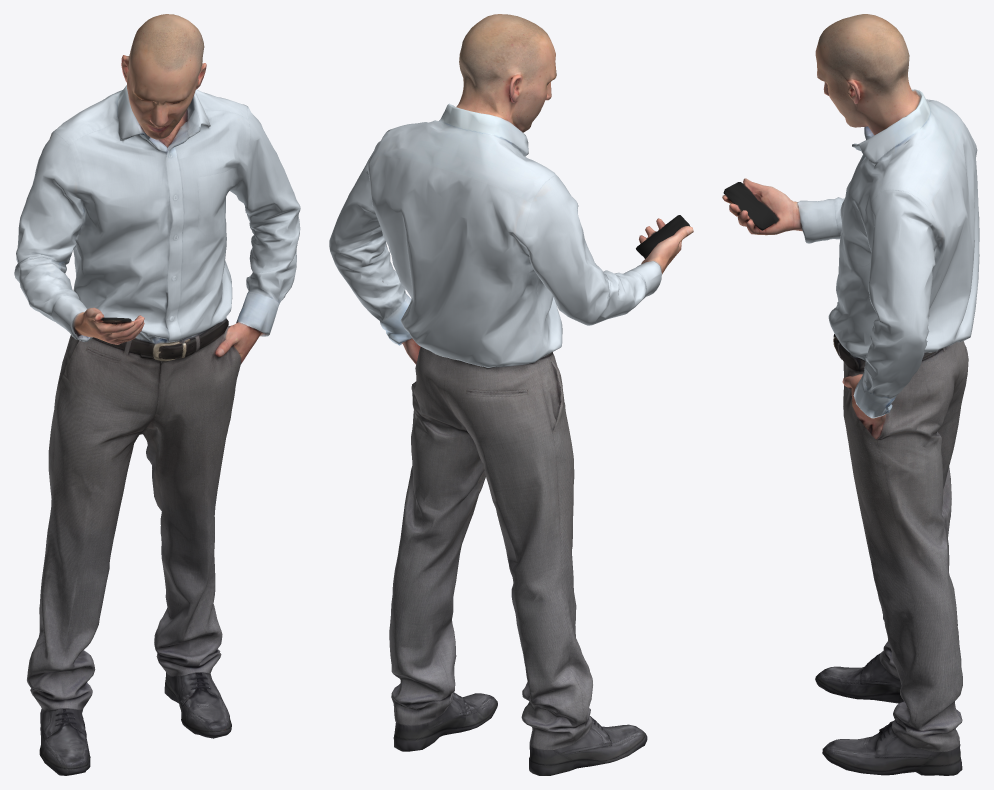
The model's file is office-guy.obj.
The picture shows the model from 3 angles, left to right: view 1: azimuth 30°, elevation 25°; view 2: azimuth 150°, elevation 25°; view 3: azimuth 270°, elevation 25°; orthographic projection.
Visible parts, largest first — view 1: BMan0006_HD2_O01P05_S; view 2: BMan0006_HD2_O01P05_S; view 3: BMan0006_HD2_O01P05_S.
Part boxes in pixels (left/top/right/bottom): BMan0006_HD2_O01P05_S: left=14, top=14, right=300, bottom=775; BMan0006_HD2_O01P05_S: left=329, top=14, right=693, bottom=775; BMan0006_HD2_O01P05_S: left=722, top=14, right=979, bottom=775.
Bounding box in the file's own units: 69.28 × 166 × 53.29.
1 material, 1 textured.
